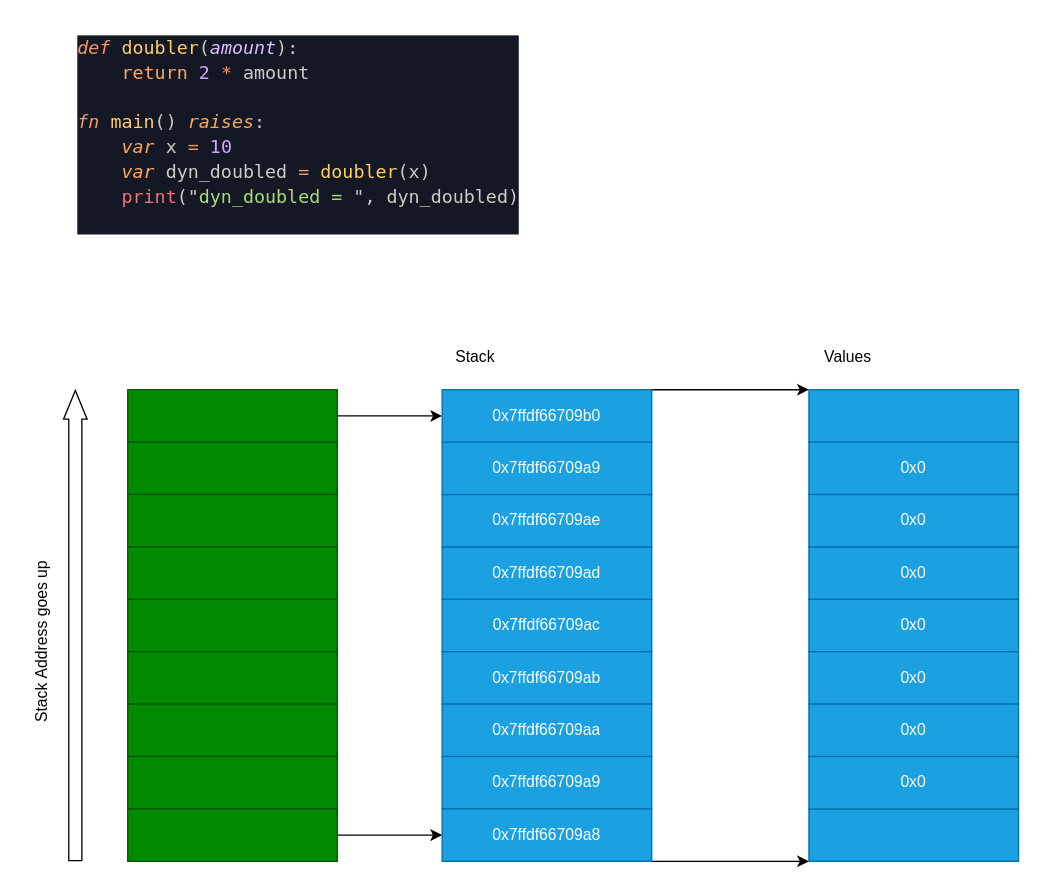
This 1041x895 diagram has some shape labels left out. Here are the shapes that lost their labels. From the top down, the centre of each, then its label:
the point at 231,415: dyn_doubled: Int
the point at 913,415: 0x14 = 0b00010100
the point at 231,834: x: Int
the point at 913,834: 0xa = 0b00001010
